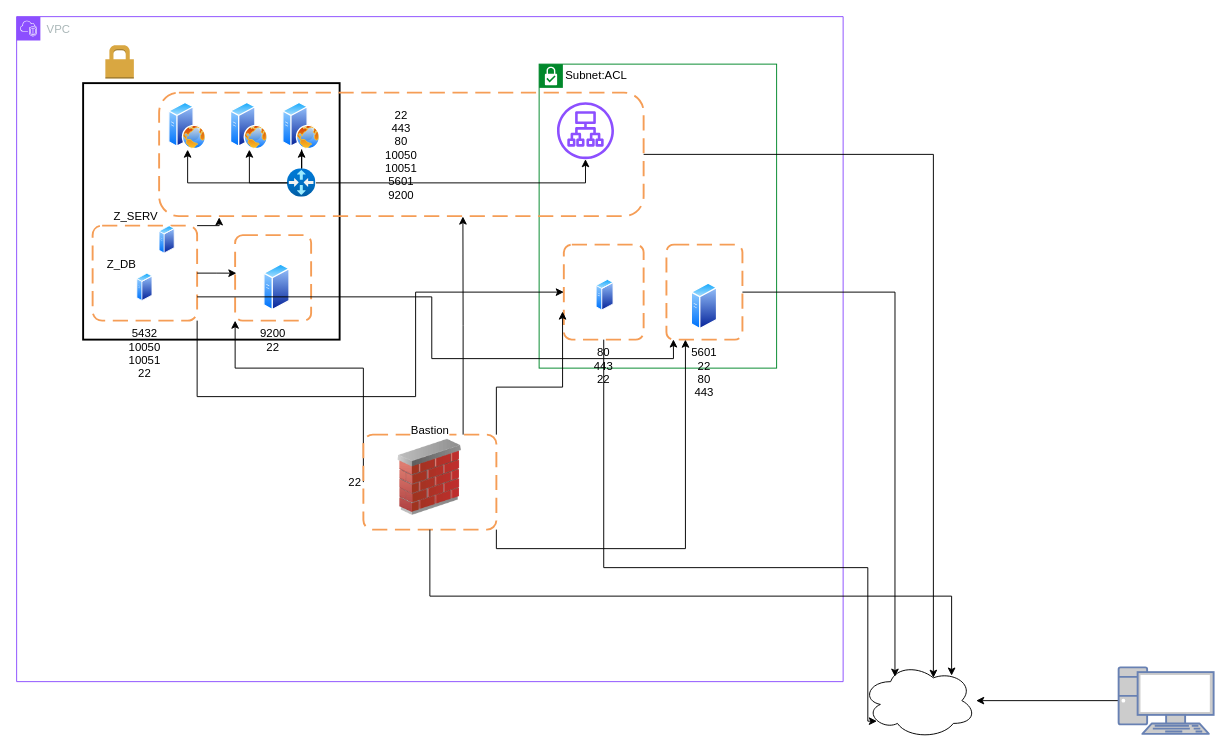
Some shapes in this 1231 by 755 pixel diagram are drawn without their labels. The shapes that lost their labels are listed below. From the top down, each one's box as (x1, y1, x2, y2) in pixels, then its label:
(557, 102, 614, 159): ALB
(287, 168, 315, 197): HTTP router
(82, 82, 340, 340): Private sub
(263, 263, 290, 311): ELK
(596, 279, 614, 311): Z_FRONT
(691, 282, 717, 330): KBN
